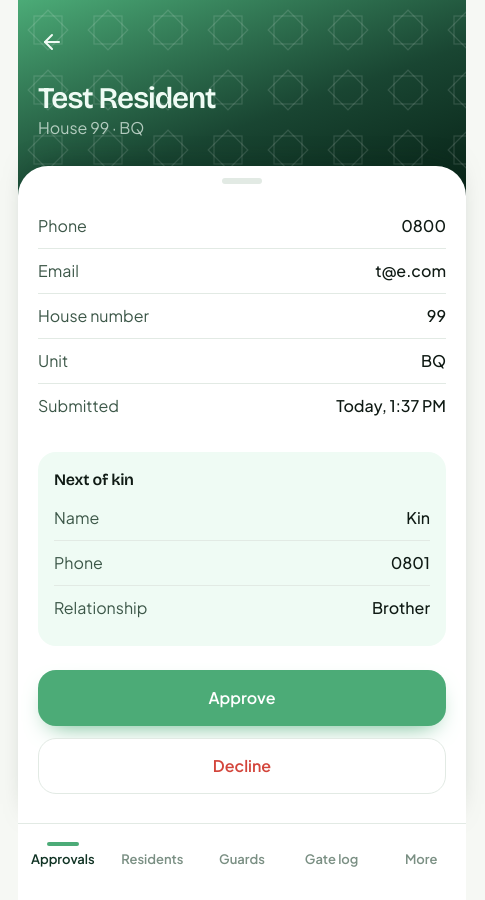
Estate Manager approval › shows a message when nothing was actually changed
Step 1. Click the button "Approve" → (242, 698), box [38,670,446,726]
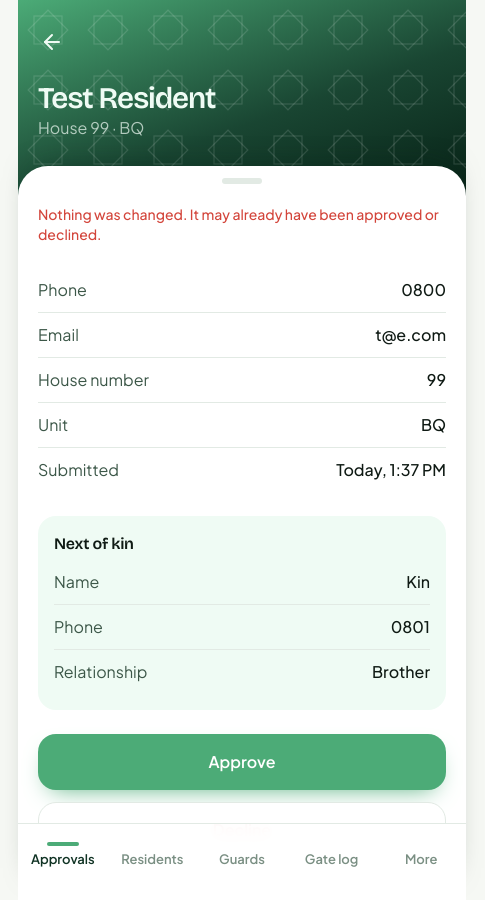
Result: the message shows "Nothing was changed" at [38,205,439,243]
